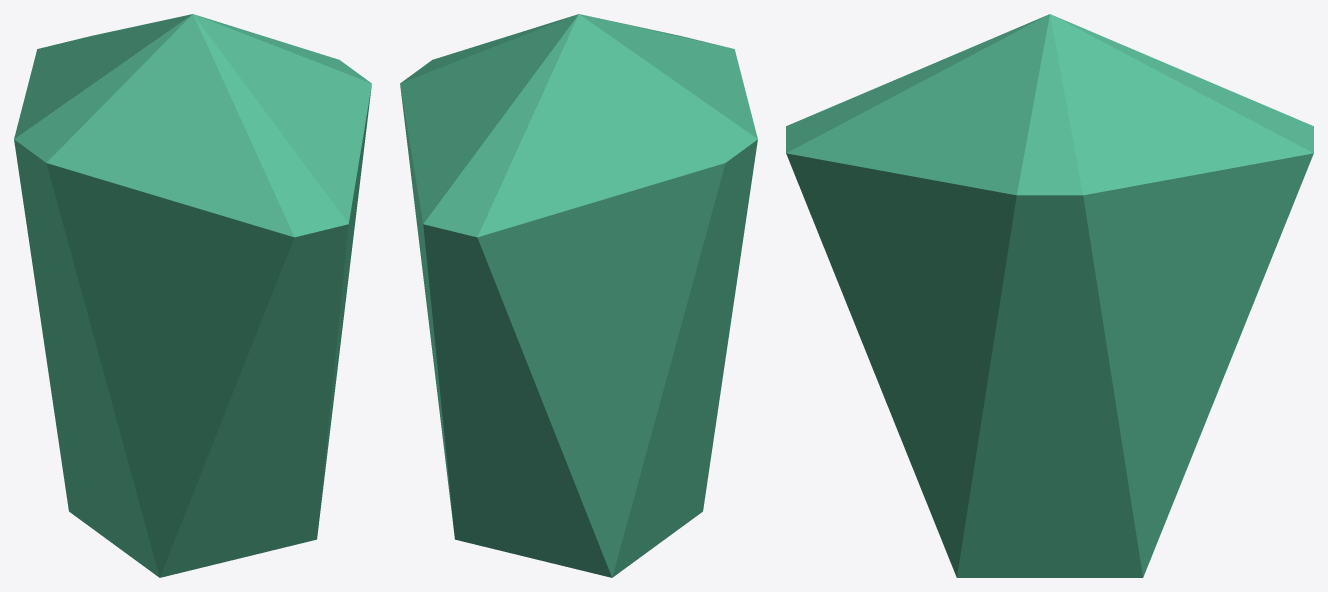
The model's file is stemCollider.obj.
The picture shows the model from 3 angles, left to right: view 1: azimuth 30°, elevation 25°; view 2: azimuth 150°, elevation 25°; view 3: azimuth 270°, elevation 25°; orthographic projection. The views are drawn at different scales.
Parts seen in each view (by area): view 1: broccoli.001; view 2: broccoli.001; view 3: broccoli.001.
Part boxes in pixels (x1,y1,x2,y2): broccoli.001: (14,14,371,577); broccoli.001: (400,14,757,577); broccoli.001: (786,14,1313,577).
Bounding box in the file's own units: 0.1684 × 0.2528 × 0.2305.
